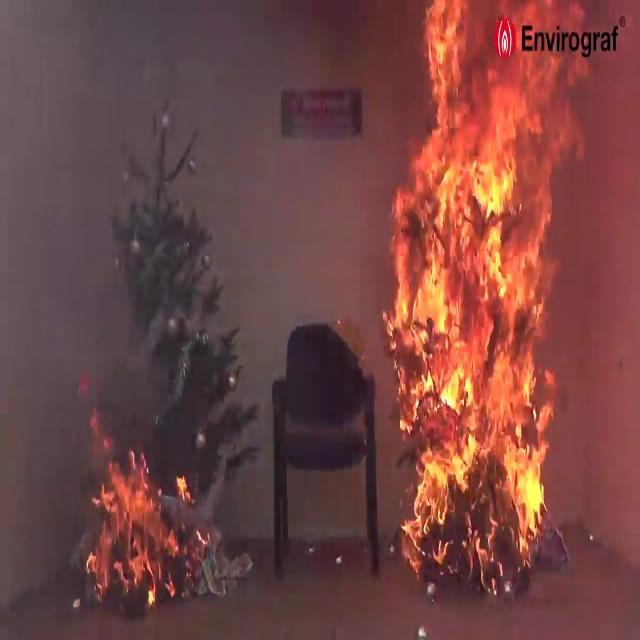Fire: (373, 3, 577, 548), (66, 453, 222, 631)
Smoke: (0, 0, 241, 444)
